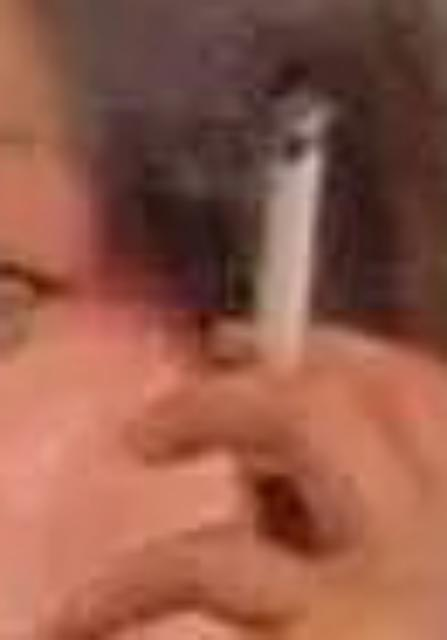Cigarette: (244, 94, 325, 493)
